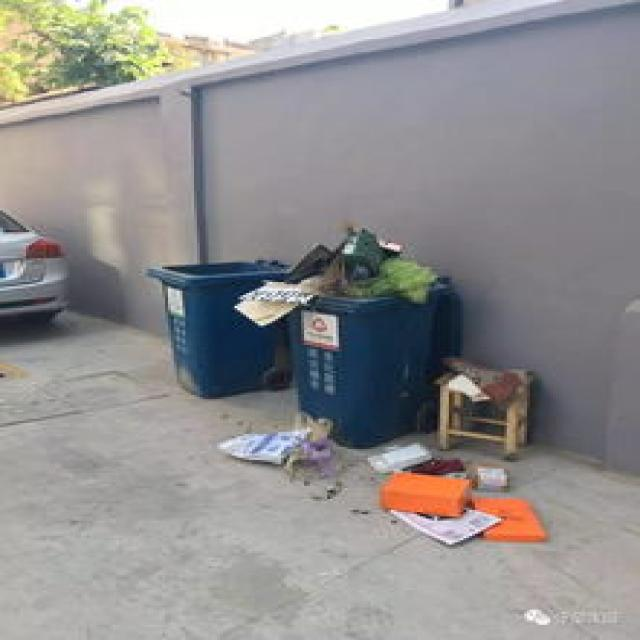garbage: (215, 353, 548, 544)
garbage_bin: (142, 256, 287, 401)
overflow: (232, 219, 460, 449)
